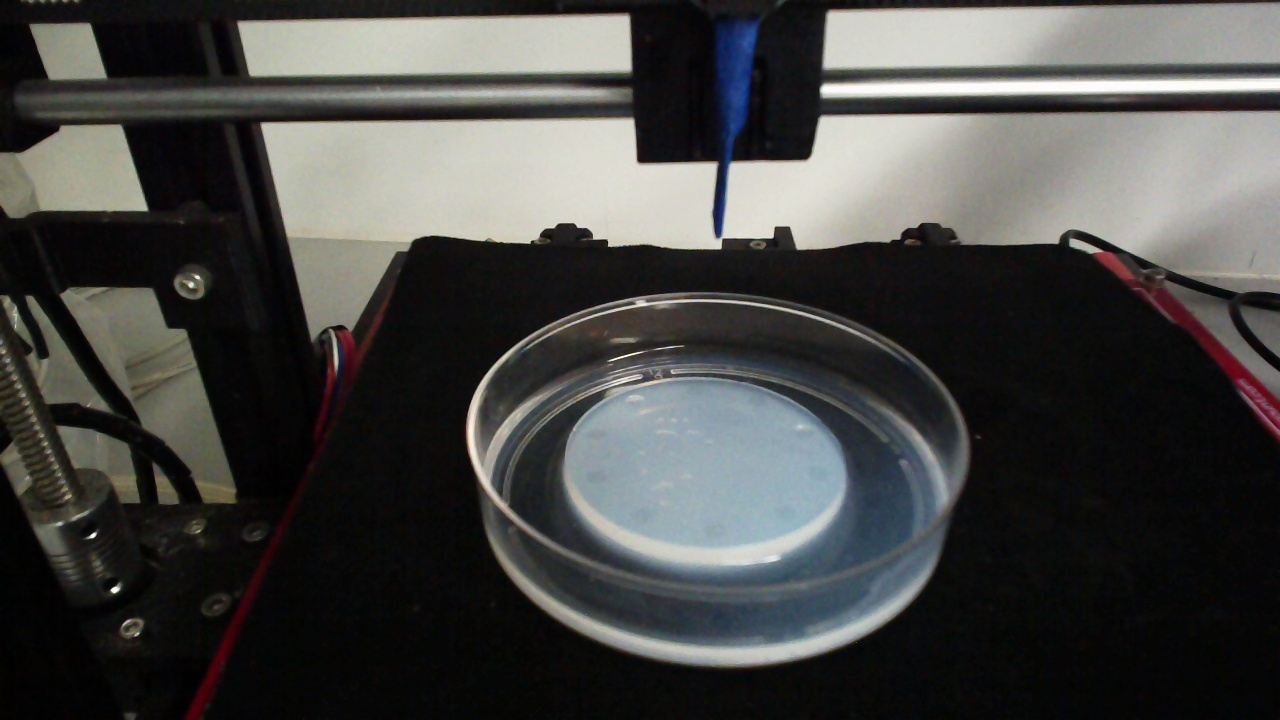groove: (807, 463, 831, 483), (772, 504, 797, 523), (628, 506, 650, 526), (702, 521, 725, 540), (792, 423, 815, 442), (623, 392, 646, 409), (746, 391, 769, 408), (581, 469, 607, 484), (583, 426, 608, 441), (685, 381, 709, 396)
needle: (712, 22, 756, 236)
